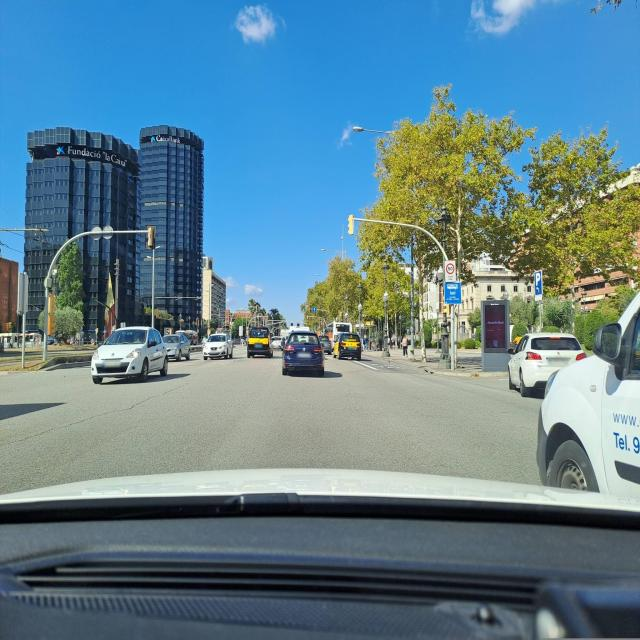car: (535, 274, 640, 540), (508, 332, 586, 397), (90, 326, 169, 384), (281, 330, 325, 378), (246, 326, 274, 358), (333, 332, 362, 361), (202, 333, 233, 360), (162, 334, 191, 362), (318, 335, 332, 354), (271, 335, 281, 349)
